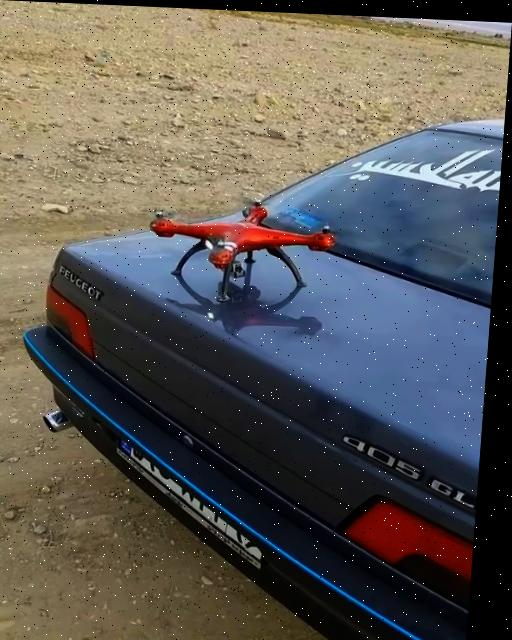drone: (143, 192, 353, 308)
